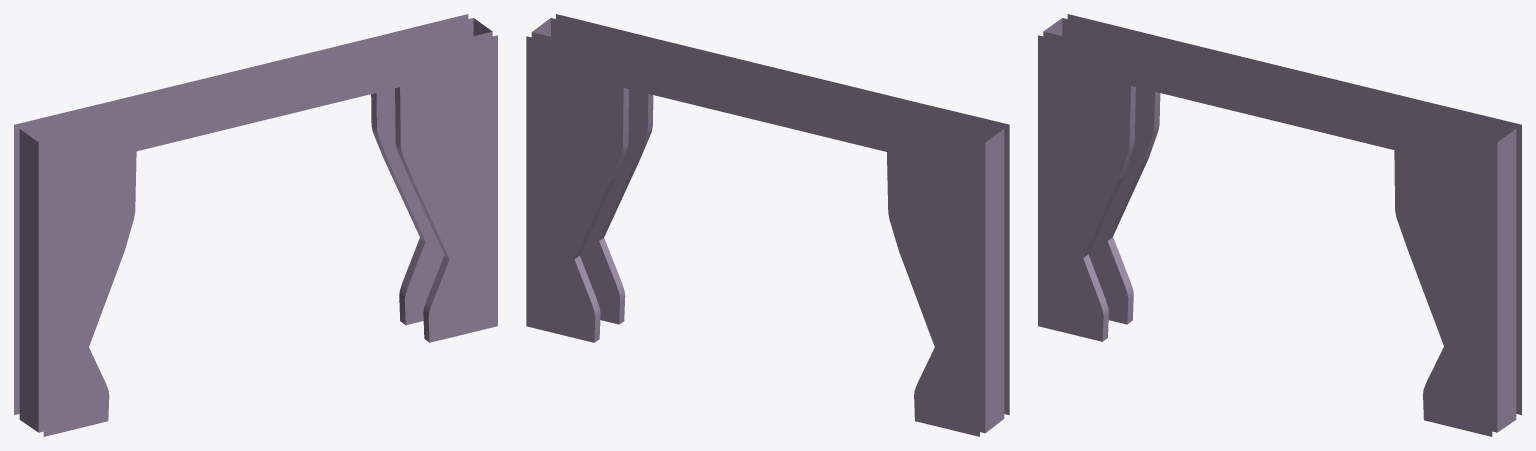
File: Module_Ss_door_Frame_2xY_A.FBX
The picture shows the model from 3 angles, left to right: view 1: azimuth 30°, elevation 25°; view 2: azimuth 150°, elevation 25°; view 3: azimuth 330°, elevation 25°; orthographic projection.
Parts seen in each view (by area): view 1: Module_Ss_door_Frame_2xY_A; view 2: Module_Ss_door_Frame_2xY_A; view 3: Module_Ss_door_Frame_2xY_A.
Boxes of the visible parts, <box> form: Module_Ss_door_Frame_2xY_A: <box>14,14,497,436</box>; Module_Ss_door_Frame_2xY_A: <box>526,14,1009,436</box>; Module_Ss_door_Frame_2xY_A: <box>1038,14,1521,436</box>.
Size of the model in its own units: 131 by 80.29 by 14.83.
